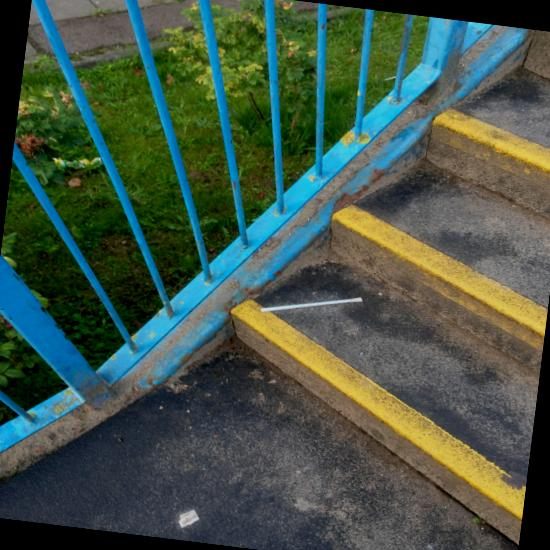Plastic straw: (261, 298, 362, 312)
Unlabeled litter: (179, 510, 199, 528)
